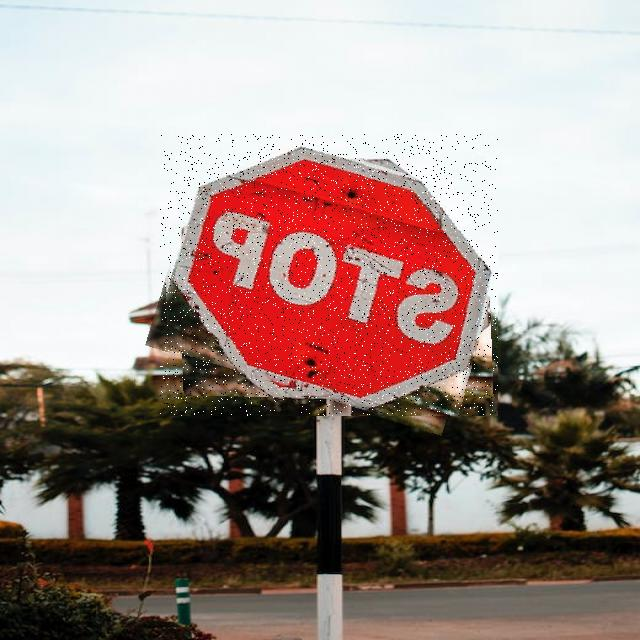stop: (160, 134, 498, 416)
